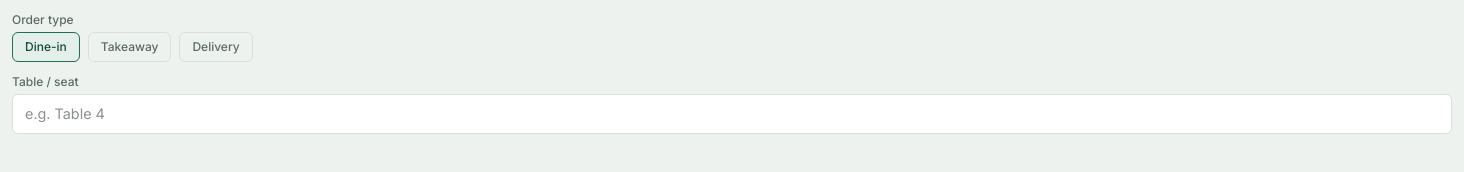
till questions for each kind of business › restaurant asks for a table when dining in, and for an address when delivering
The width and height of the screenshot is (1464, 172).
expect the text "Table / seat" is shown: met, box [12, 74, 79, 89]
expect the text "Delivery address & phone" is not shown: met
Step 1. Click the button "Delivery" → click(216, 47), box [179, 32, 253, 62]
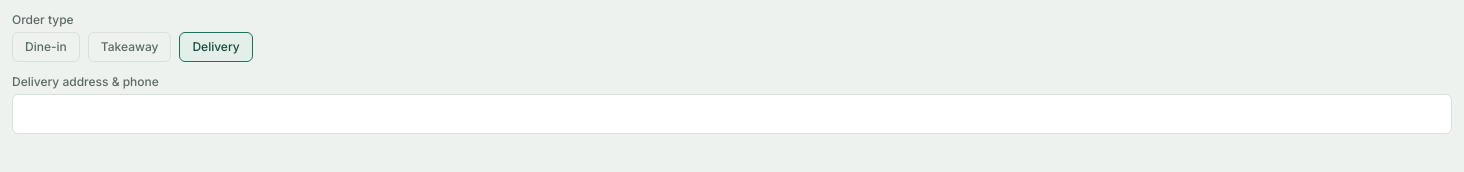
expect the text "Delivery address & phone" is shown: met, box [12, 74, 159, 89]
expect the text "Table / seat" is gone: met
